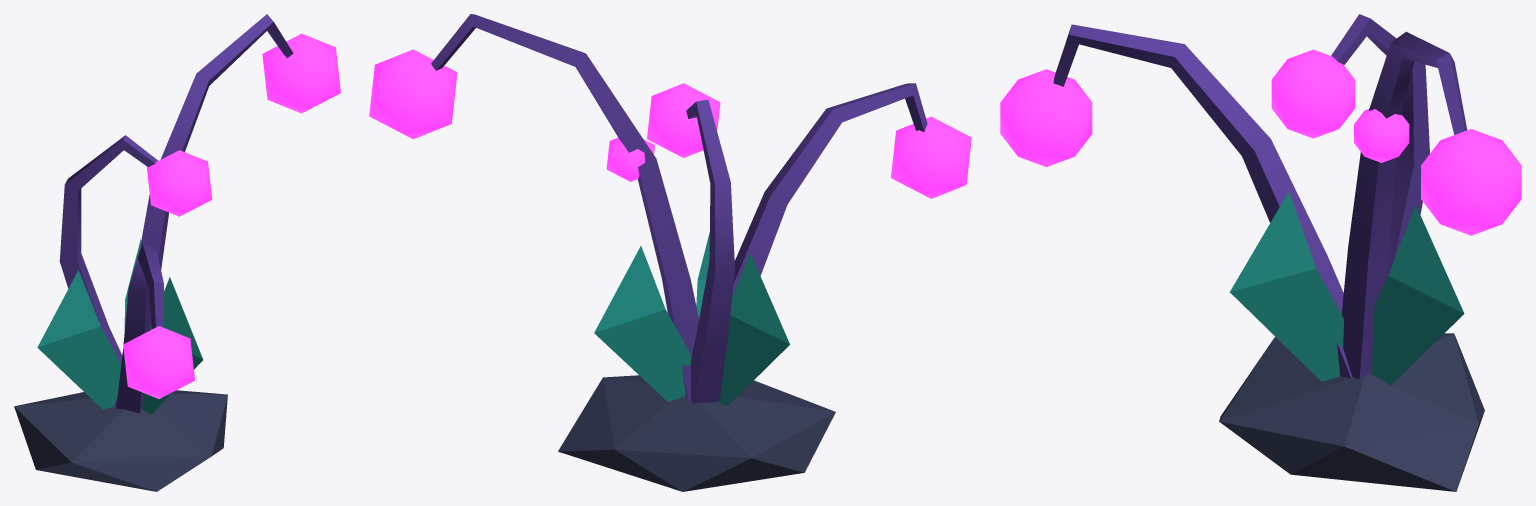
The model's file is alien_plant.glb.
3 views of the same model, side by side, from view 1: azimuth 30°, elevation 25°; view 2: azimuth 150°, elevation 25°; view 3: azimuth 270°, elevation 25° (orthographic). The views are drawn at different scales.
Visible parts, largest first — view 1: alien_plant; view 2: alien_plant; view 3: alien_plant.
Boxes of the visible parts, <box> form: alien_plant: <box>14,14,340,491</box>; alien_plant: <box>369,14,971,491</box>; alien_plant: <box>1000,14,1521,491</box>.
Size of the model in its own units: 0.7774 by 0.7437 by 0.715.
